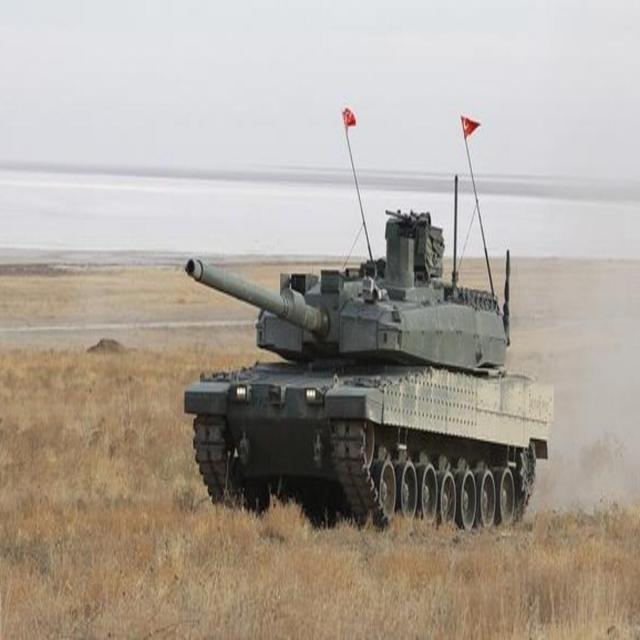MIL_MBT: (185, 206, 552, 536)
